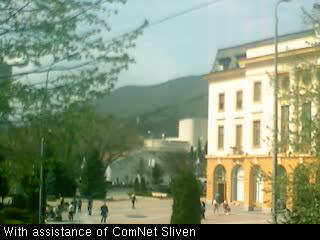person: (101, 203, 109, 224), (199, 199, 206, 220), (87, 197, 94, 216), (63, 200, 69, 221), (212, 197, 219, 215), (222, 200, 229, 215), (131, 193, 137, 210), (71, 197, 77, 212), (69, 203, 74, 221), (78, 197, 83, 213)
